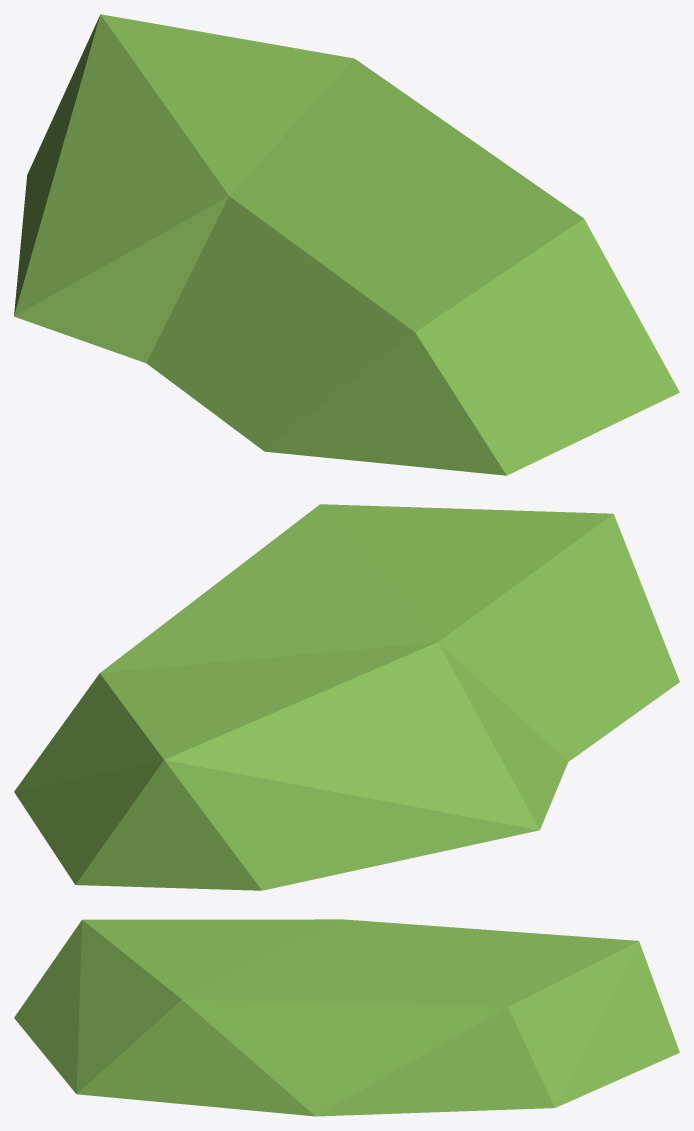
The model's file is MT_Mountain_S_b_04.fbx.
3 views of the same model, one above another, from view 1: azimuth 30°, elevation 25°; view 2: azimuth 150°, elevation 25°; view 3: azimuth 270°, elevation 25° (orthographic). The views are drawn at different scales.
Visible parts, largest first — view 1: MT_Mountain_S_b_04; view 2: MT_Mountain_S_b_04; view 3: MT_Mountain_S_b_04.
Part boxes in pixels (left/top/right/bottom): MT_Mountain_S_b_04: left=14, top=14, right=679, bottom=475; MT_Mountain_S_b_04: left=14, top=504, right=679, bottom=890; MT_Mountain_S_b_04: left=14, top=919, right=679, bottom=1116.
Size of the model in its own units: 786 by 202 by 1324.
